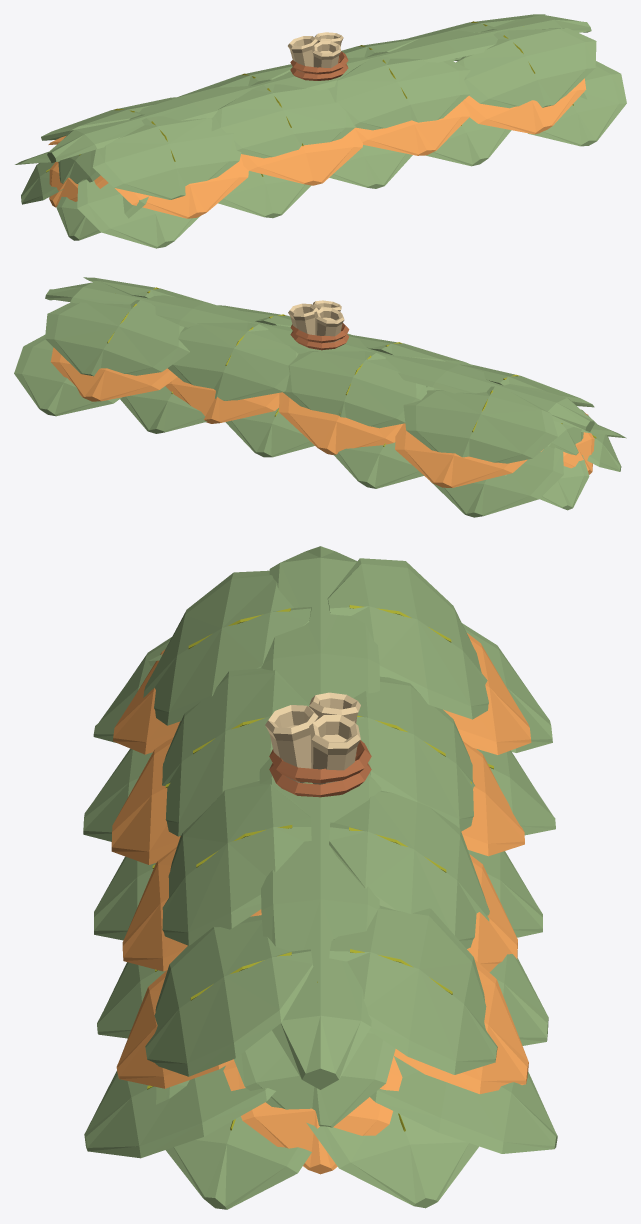
Rendered from palmRoof.glb.
The picture shows the model from 3 angles, top to bottom: view 1: azimuth 30°, elevation 25°; view 2: azimuth 150°, elevation 25°; view 3: azimuth 270°, elevation 25°; orthographic projection. The views are drawn at different scales.
Visible parts, largest first — view 1: palmRoof; view 2: palmRoof; view 3: palmRoof.
Part boxes in pixels (<box>): palmRoof: <box>15,14,626,248</box>; palmRoof: <box>14,277,626,517</box>; palmRoof: <box>83,546,557,1209</box>.
Size of the model in its own units: 6.4 by 1.3 by 2.4.
1 material, 1 textured.
